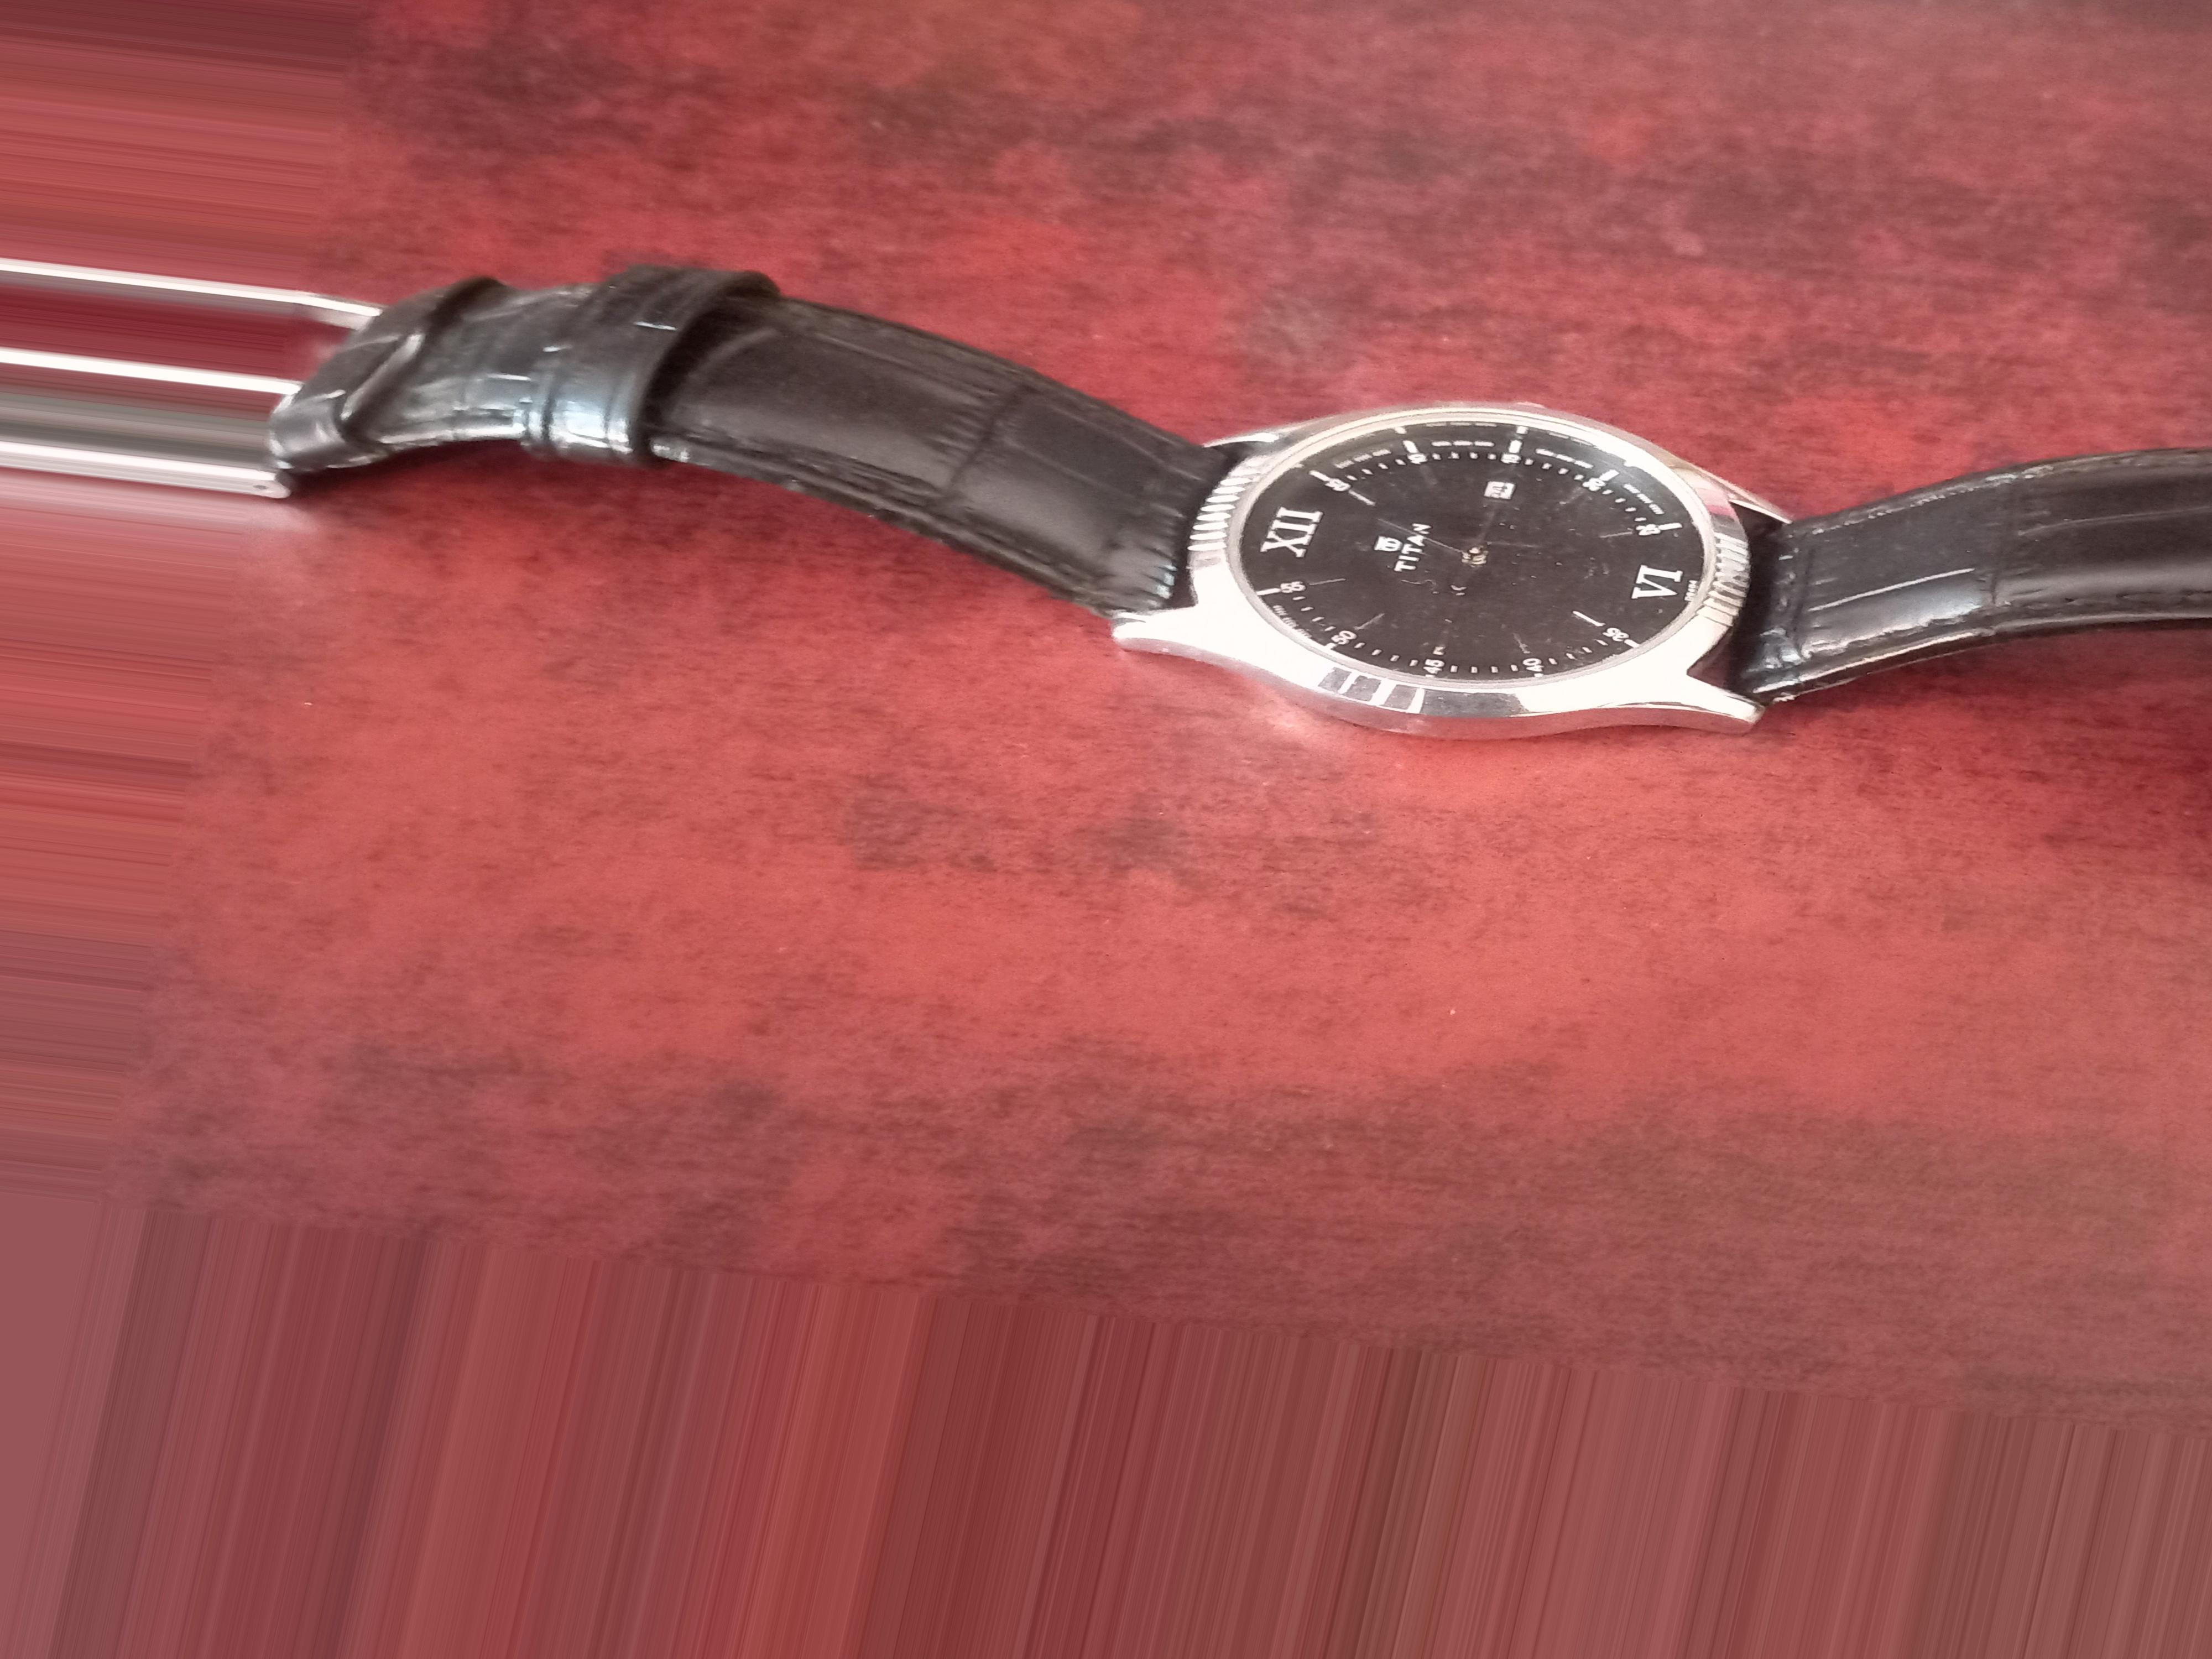watch: (0, 223, 2212, 798)
